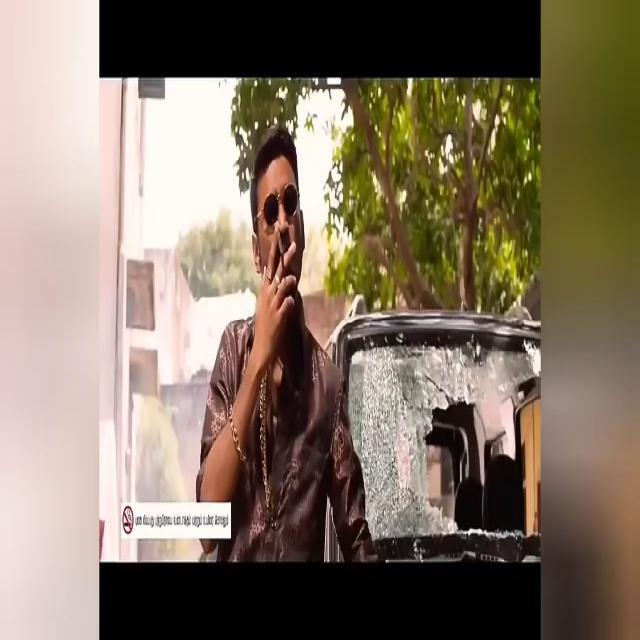smoking: (271, 148, 297, 354)
